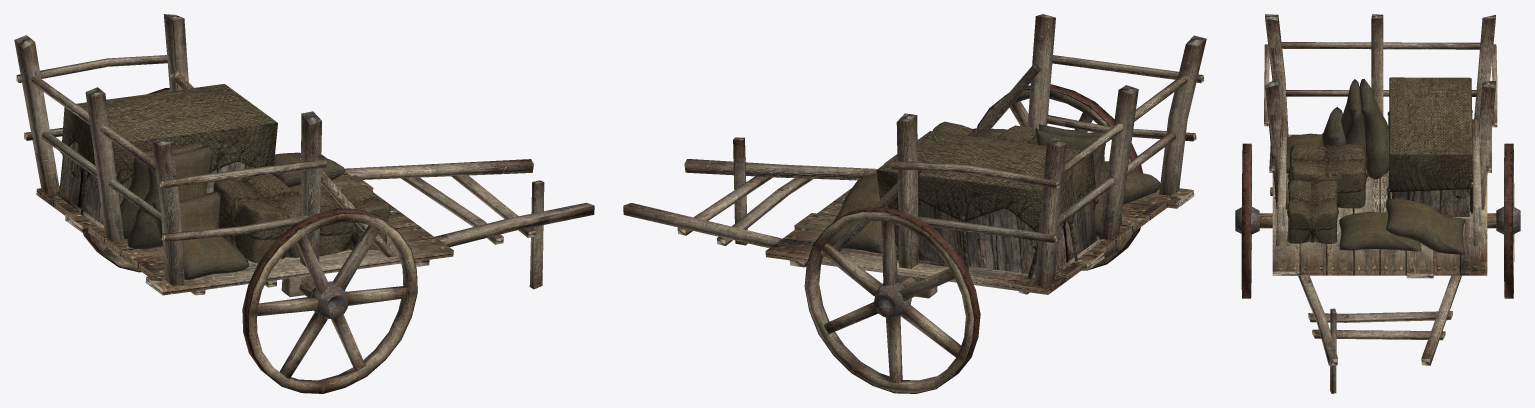
The model's file is medieval_cart.glb.
The picture shows the model from 3 angles, left to right: view 1: azimuth 30°, elevation 25°; view 2: azimuth 150°, elevation 25°; view 3: azimuth 270°, elevation 25°; orthographic projection. The views are drawn at different scales.
Visible parts, largest first — view 1: defaultobject; view 2: defaultobject; view 3: defaultobject.
Part boxes in pixels (x1,y1,x2,y2): defaultobject: [14, 14, 594, 393]; defaultobject: [623, 14, 1206, 393]; defaultobject: [1235, 14, 1520, 393].
Size of the model in its own units: 29.45 by 16.3 by 19.37.
9 materials, 9 textured.
